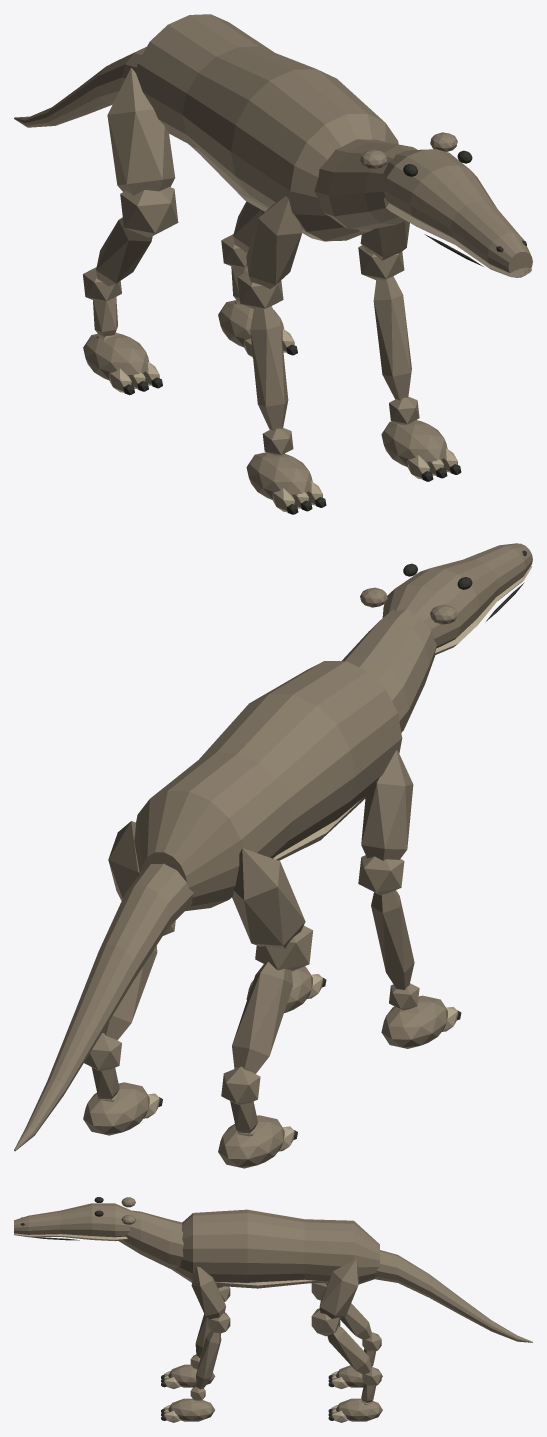
3 renders of one model, top to bottom at view 1: azimuth 30°, elevation 25°; view 2: azimuth 150°, elevation 25°; view 3: azimuth 270°, elevation 25°, orthographic. The views are drawn at different scales.
Parts seen in each view (by area): view 1: surface_warm_gray_brown_coat, surface_subdued_cream_underside, surface_dark_eye_nostril_toetip; view 2: surface_warm_gray_brown_coat, surface_subdued_cream_underside; view 3: surface_warm_gray_brown_coat, surface_subdued_cream_underside, surface_dark_eye_nostril_toetip.
Part boxes in pixels (box(x1,y1,x2,y2)): surface_warm_gray_brown_coat: box(14, 14, 532, 499); surface_subdued_cream_underside: box(109, 144, 531, 512); surface_dark_eye_nostril_toetip: box(123, 150, 526, 514); surface_warm_gray_brown_coat: box(14, 543, 532, 1168); surface_subdued_cream_underside: box(143, 565, 531, 1151); surface_warm_gray_brown_coat: box(14, 1197, 532, 1421); surface_subdued_cream_underside: box(14, 1233, 348, 1422); surface_dark_eye_nostril_toetip: box(20, 1197, 334, 1420).
Size of the model in its own units: 0.2118 by 0.424 by 1.
